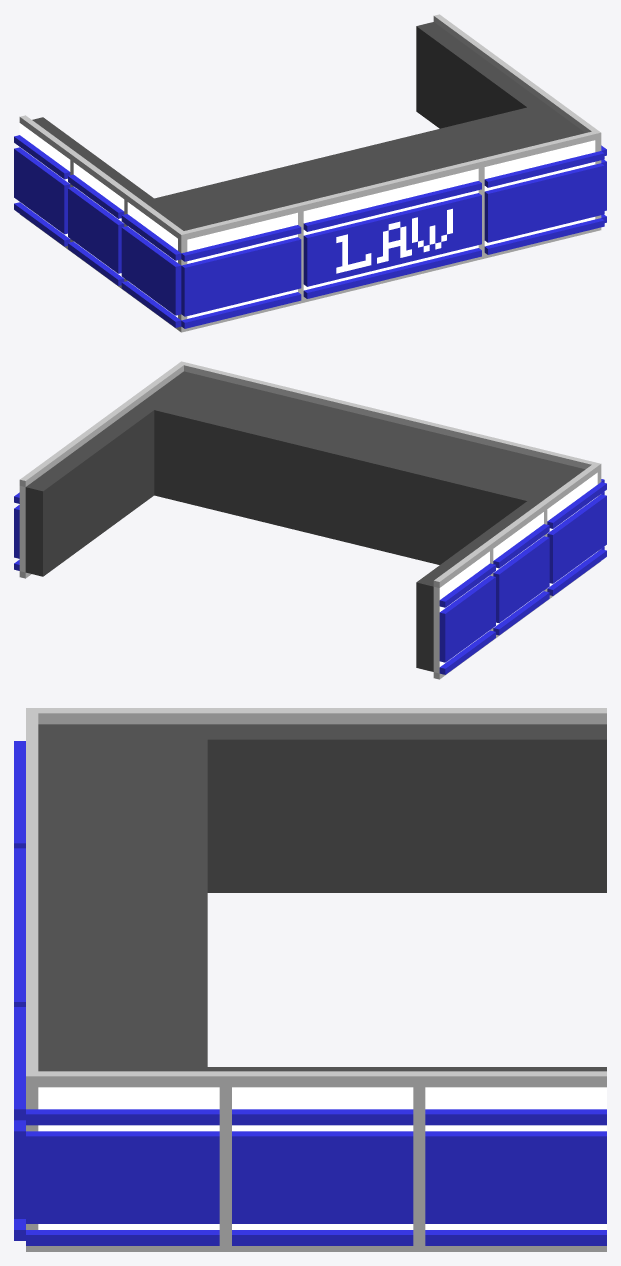
File: law.glb
3 views of the same model, one above another, from view 1: azimuth 30°, elevation 25°; view 2: azimuth 150°, elevation 25°; view 3: azimuth 270°, elevation 25° (orthographic). The views are drawn at different scales.
Visible parts, largest first — view 1: ObjObject; view 2: ObjObject; view 3: ObjObject.
Part boxes in pixels (box(x1,y1,x2,y2)): ObjObject: box(14, 14, 606, 332); ObjObject: box(14, 361, 606, 679); ObjObject: box(14, 708, 606, 1251).
Size of the model in its own units: 7.4 by 1.6 by 4.9.
2 materials, 1 textured.
